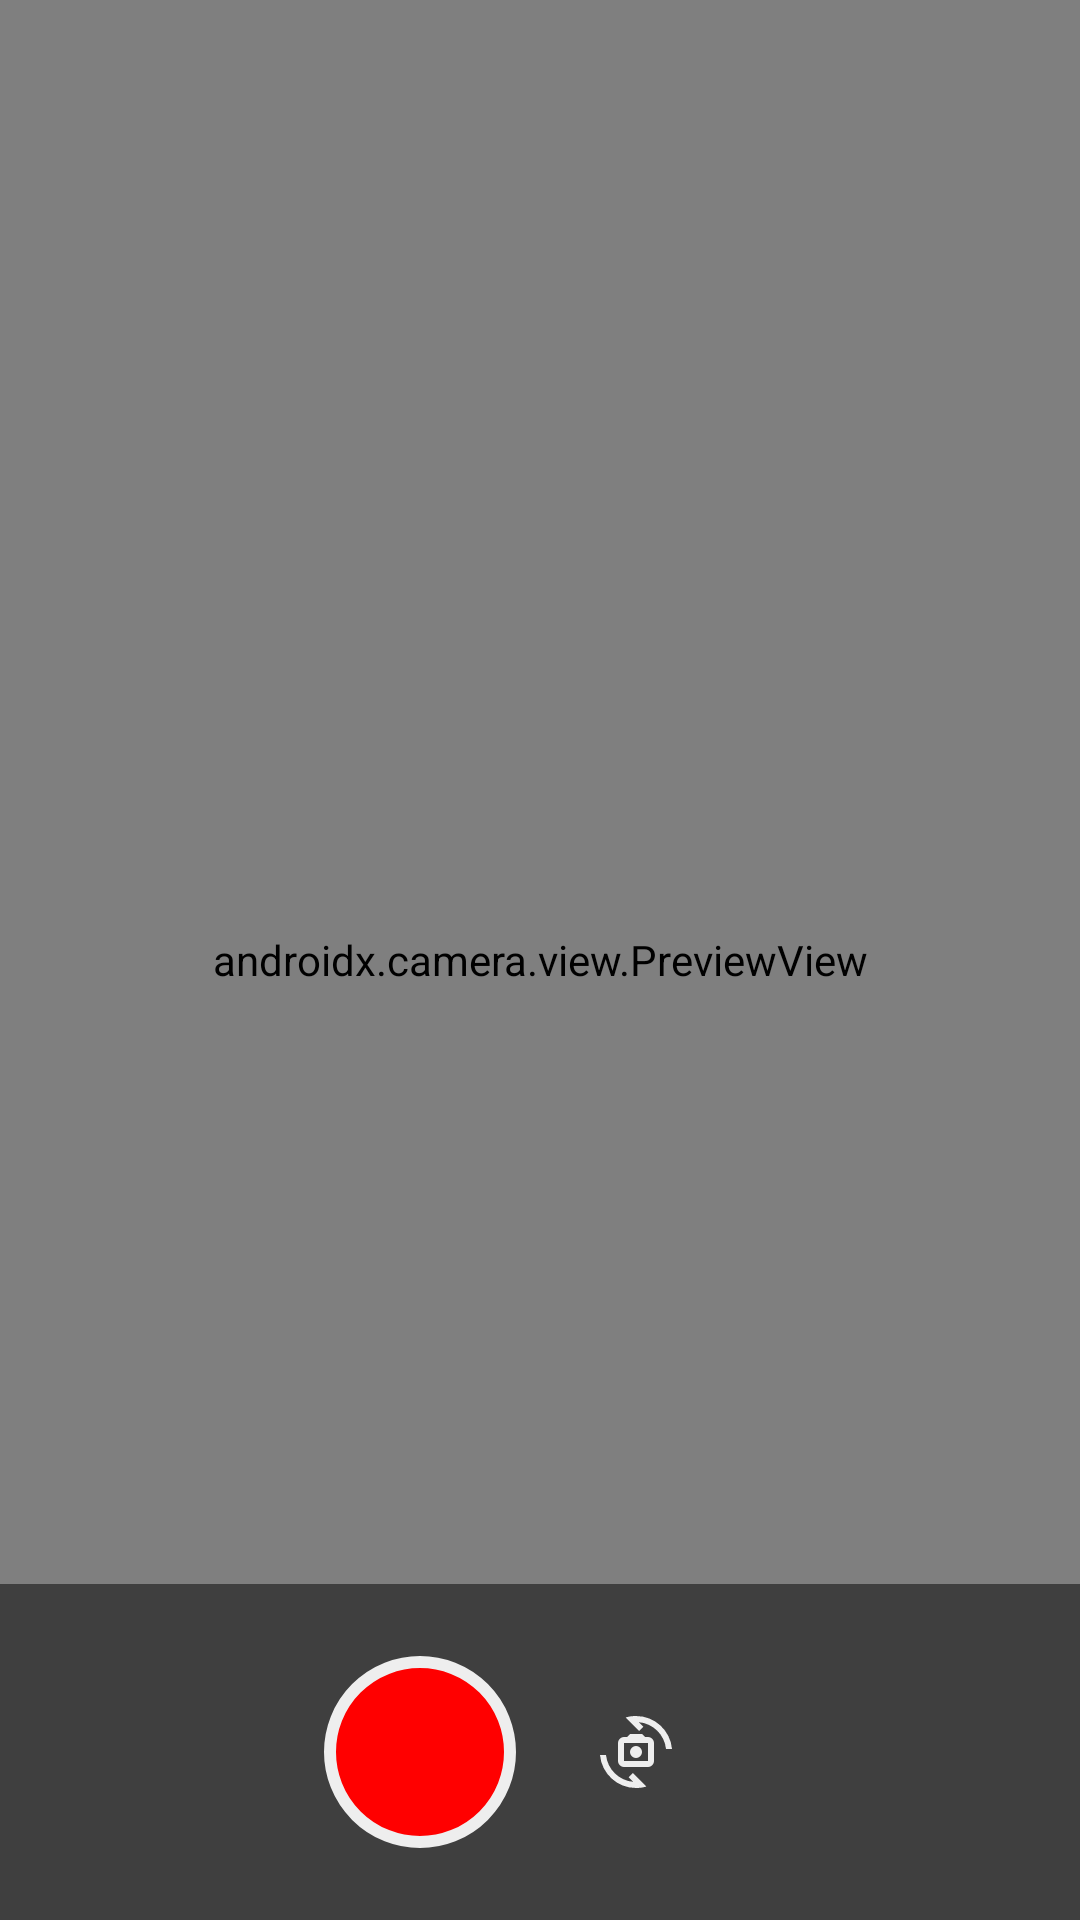

Icon bounding boxes for this 1080x1920 phone screenshot, format Rect(x1, y1, x2, y2):
Switch Camera: Rect(600, 1716, 672, 1788)
